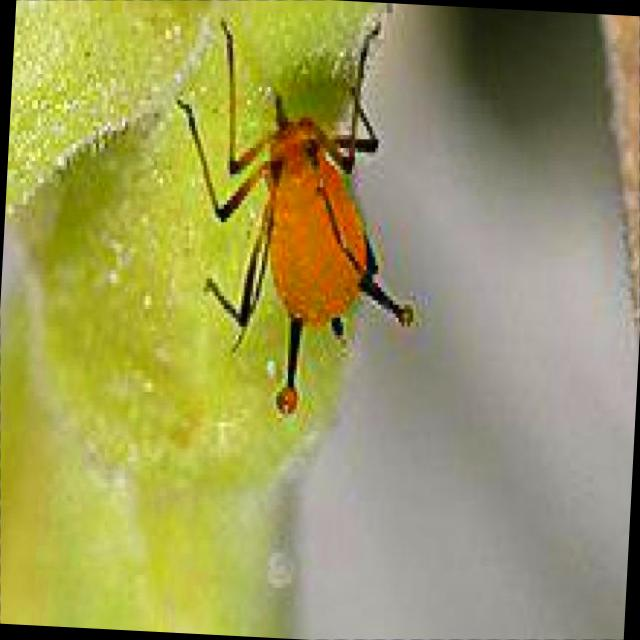aphid: (160, 4, 457, 418)
